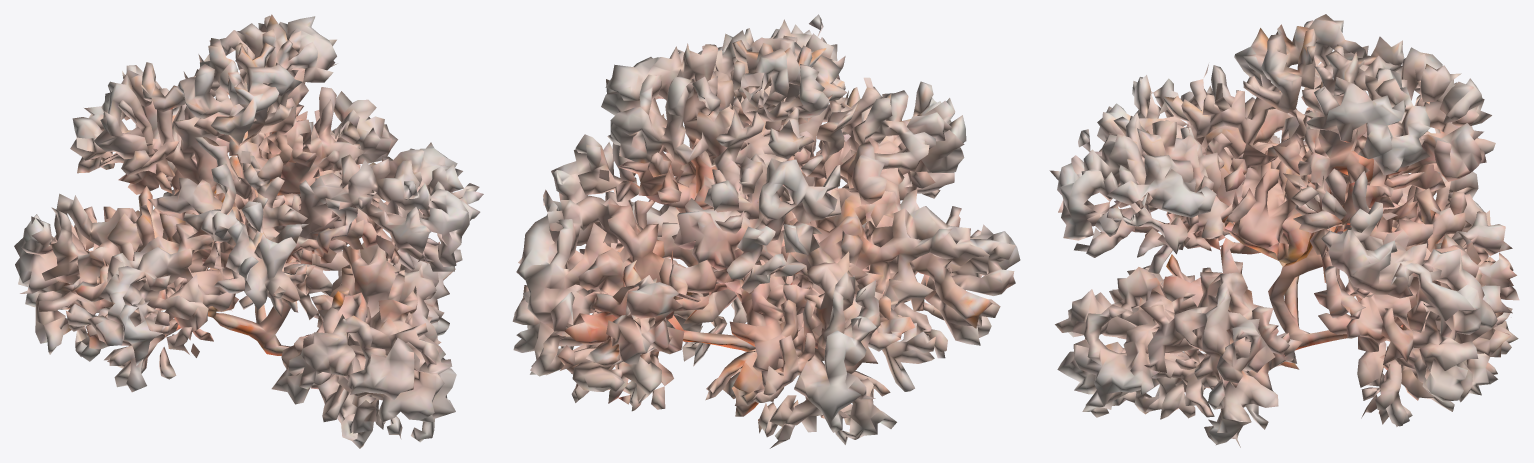
Rendered from Coral_Elegance_0110010258_texture.glb.
3 renders of one model, left to right at view 1: azimuth 30°, elevation 25°; view 2: azimuth 150°, elevation 25°; view 3: azimuth 270°, elevation 25°, orthographic. The views are drawn at different scales.
Bounding box in the file's own units: 1.82 × 1.69 × 1.95.
1 material, 1 textured.
